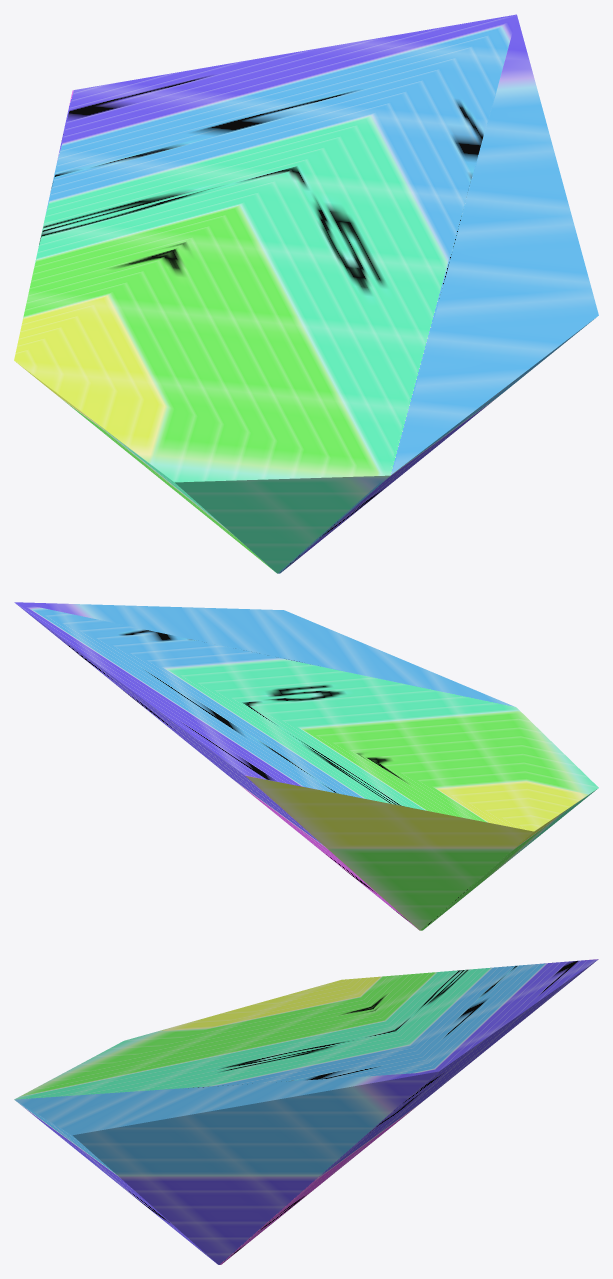
File: CoreFraction1.obj
The picture shows the model from 3 angles, top to bottom: view 1: azimuth 30°, elevation 25°; view 2: azimuth 150°, elevation 25°; view 3: azimuth 270°, elevation 25°; orthographic projection. The views are drawn at different scales.
Parts seen in each view (by area): view 1: 円柱.001; view 2: 円柱.001; view 3: 円柱.001.
Part boxes in pixels (x1,y1,x2,y2): 円柱.001: (14, 14, 598, 573); 円柱.001: (14, 602, 598, 930); 円柱.001: (14, 959, 598, 1264).
Bounding box in the file's own units: 1.54 × 1.02 × 1.53.
